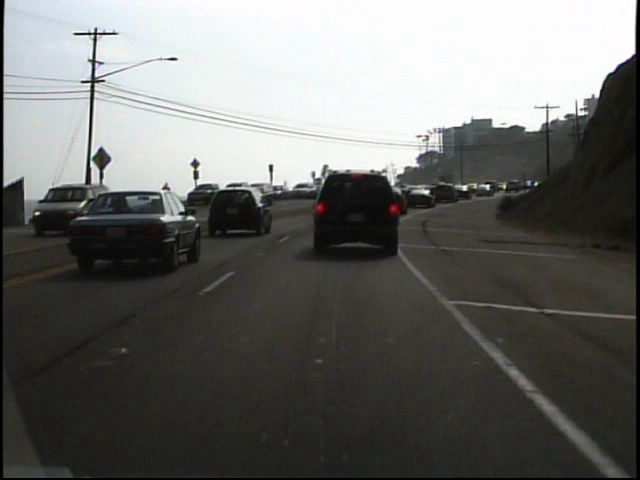person: (158, 179, 175, 210)
